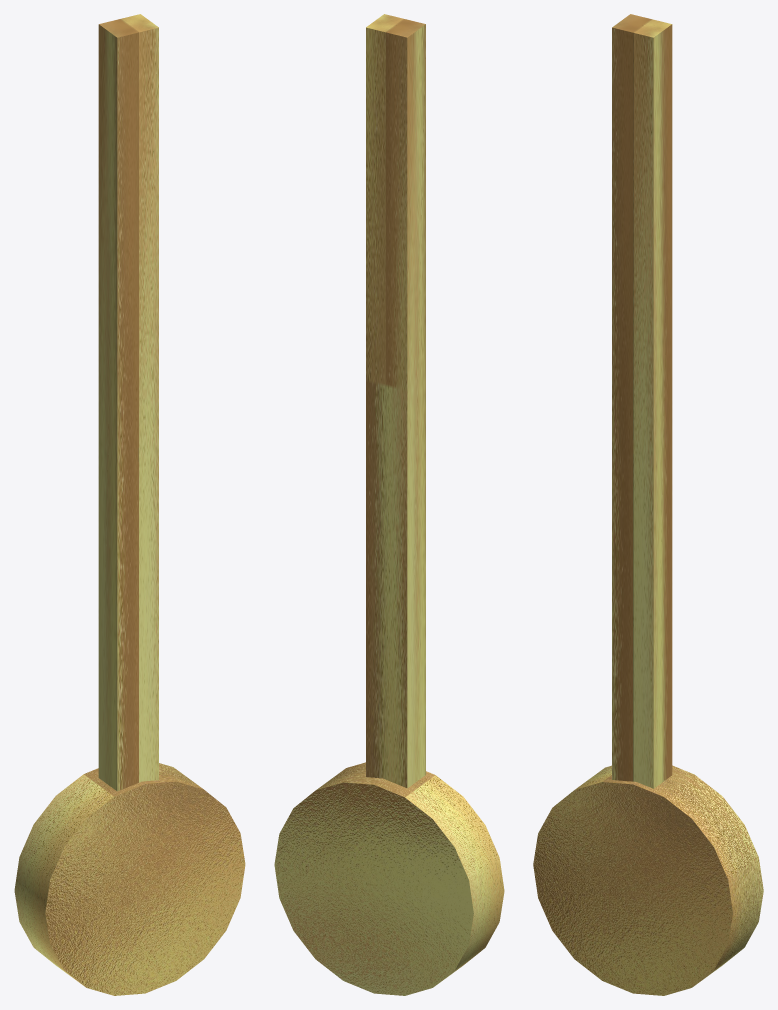
The model's file is Cuckoo1.obj.
3 views of the same model, side by side, from view 1: azimuth 30°, elevation 25°; view 2: azimuth 150°, elevation 25°; view 3: azimuth 330°, elevation 25° (orthographic).
Parts seen in each view (by area): view 1: Cuckoo1; view 2: Cuckoo1; view 3: Cuckoo1.
Boxes of the visible parts, left/top/right/bottom form: Cuckoo1: left=14, top=14, right=245, bottom=995; Cuckoo1: left=274, top=14, right=504, bottom=995; Cuckoo1: left=533, top=14, right=763, bottom=995.
Bounding box in the file's own units: 0.7166 × 3.28 × 0.1907.
